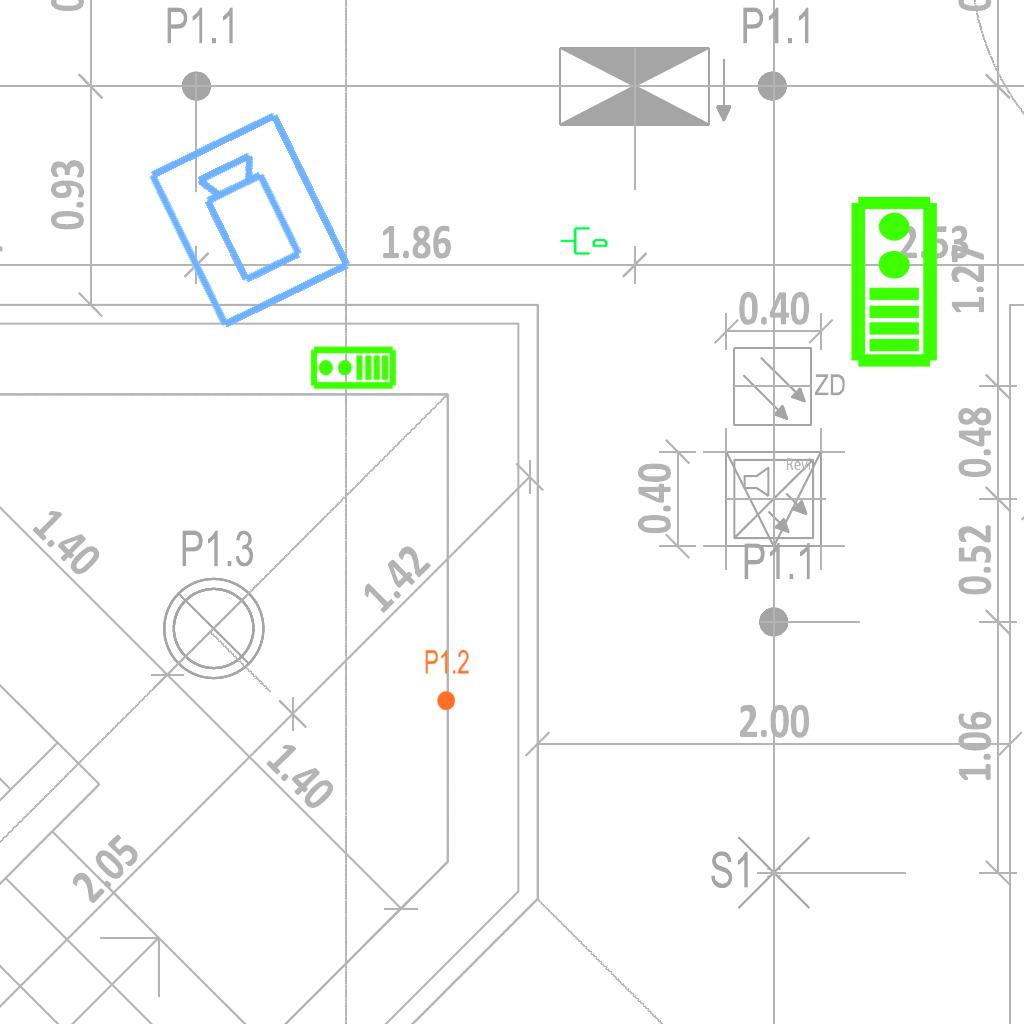Datenanschluss_einfach: (559, 223, 609, 257)
Downlight_LED_Einbauleuchten_Flur: (424, 648, 470, 712)
Gegensprechanlage_mit_Video: (845, 193, 940, 369), (309, 345, 397, 392)
KFO_Kamera_mit_Festobjektiv: (141, 104, 361, 336)
